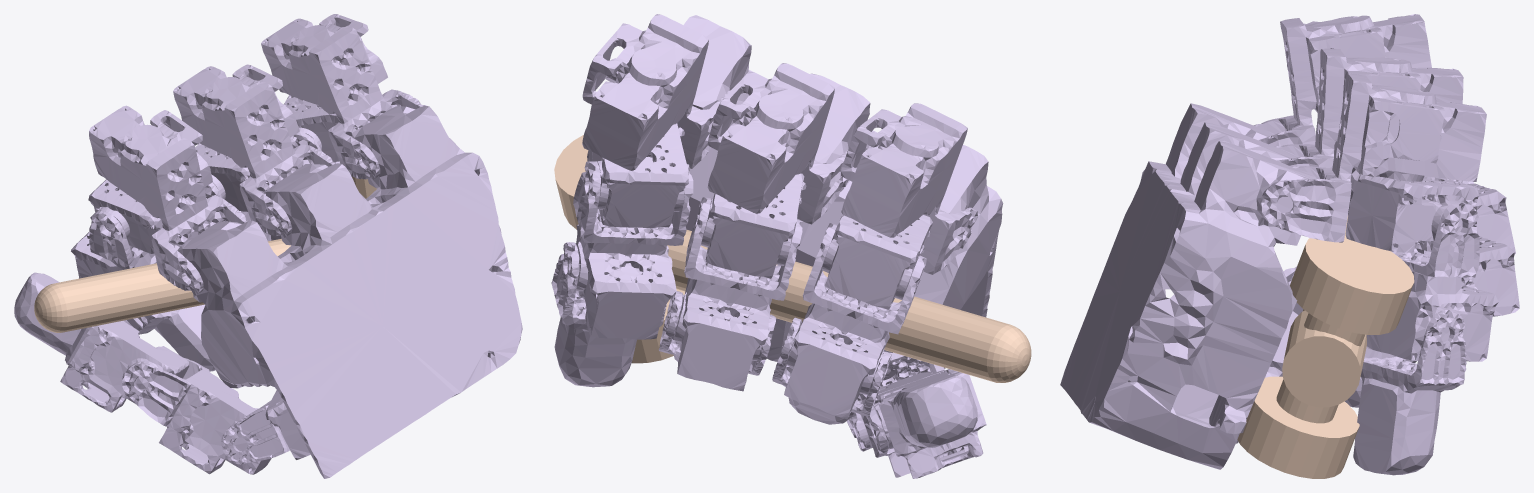
Rendered from 0a6671083fb538-closed.glb.
3 views of the same model, side by side, from view 1: azimuth 30°, elevation 25°; view 2: azimuth 150°, elevation 25°; view 3: azimuth 270°, elevation 25° (orthographic). The views are drawn at different scales.
Visible parts, largest first — view 1: LEAP_hand, world; view 2: LEAP_hand, world; view 3: LEAP_hand, world.
Part boxes in pixels (x1,y1,x2,y2): LEAP_hand: (14, 14, 522, 478); world: (34, 176, 376, 332); LEAP_hand: (551, 14, 1003, 478); world: (554, 135, 1031, 382); LEAP_hand: (1060, 14, 1519, 475); world: (1237, 216, 1414, 478).
Size of the model in its own units: 0.1814 by 0.1606 by 0.1512.
